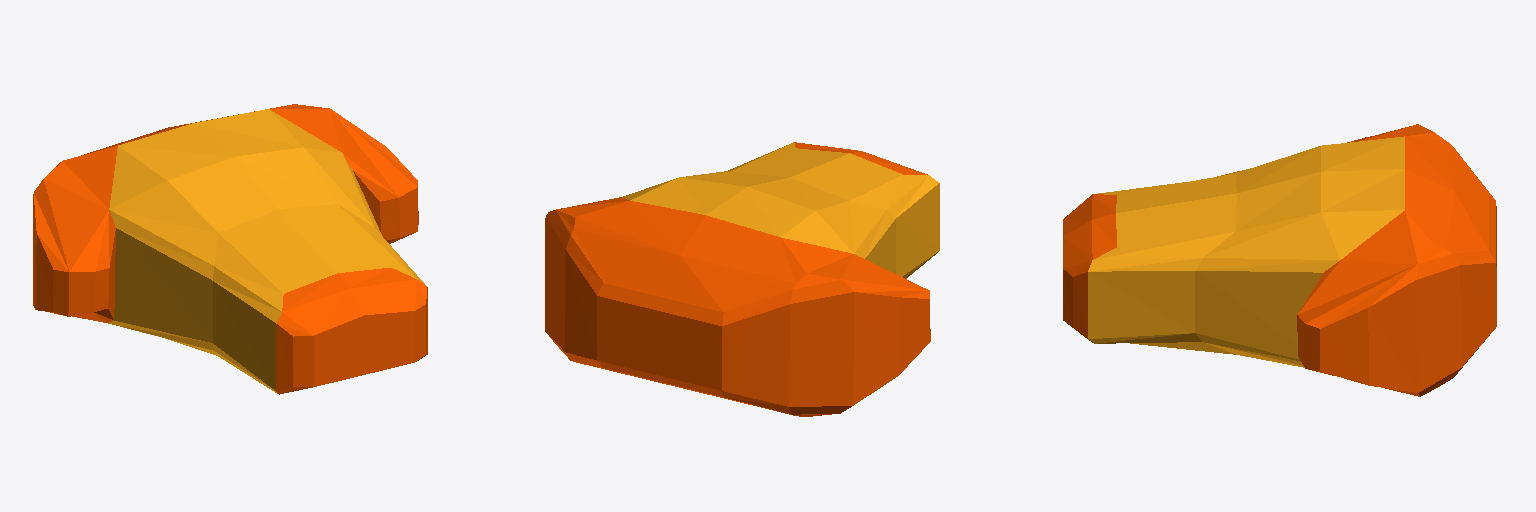
Rendered from GoldArmour.obj.
3 views of the same model, side by side, from view 1: azimuth 30°, elevation 25°; view 2: azimuth 150°, elevation 25°; view 3: azimuth 270°, elevation 25° (orthographic).
Parts seen in each view (by area): view 1: GoldArmour; view 2: GoldArmour; view 3: GoldArmour.
Boxes of the visible parts, x1,y1,x2,y2 form: GoldArmour: [33, 104, 427, 394]; GoldArmour: [545, 142, 939, 416]; GoldArmour: [1063, 124, 1496, 396].
Size of the model in its own units: 1.01 by 0.4581 by 1.04.